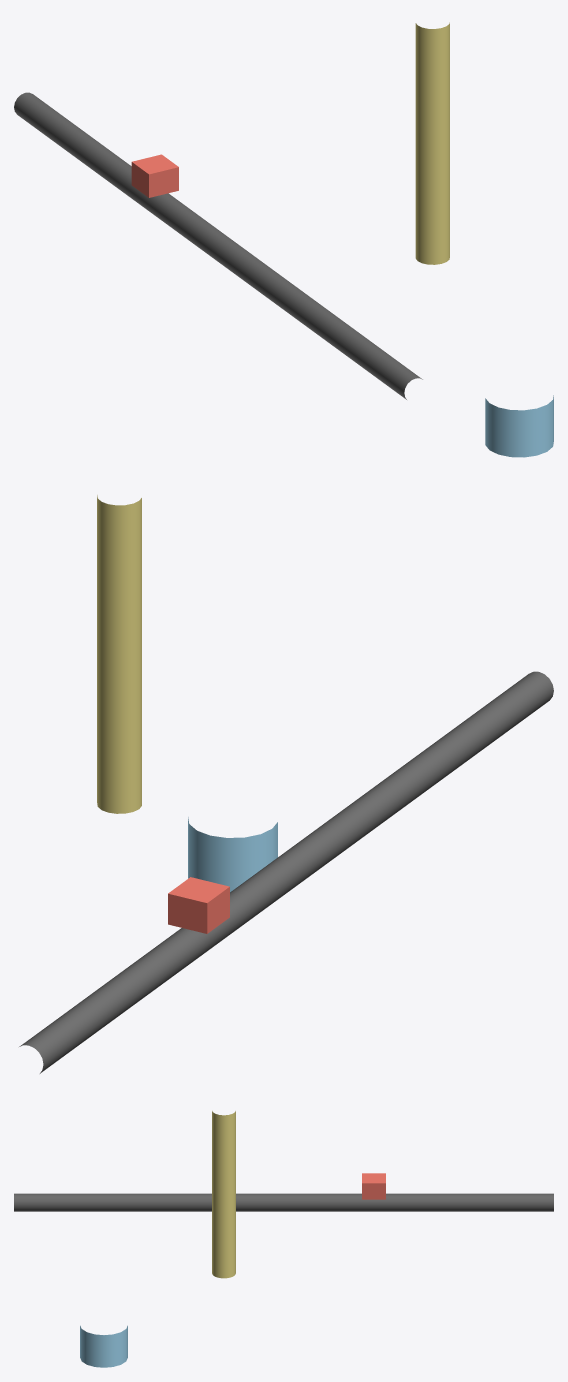
The model's file is micro_irrigation_drip_sprinkler_uniformity.glb.
3 views of the same model, one above another, from view 1: azimuth 30°, elevation 25°; view 2: azimuth 150°, elevation 25°; view 3: azimuth 270°, elevation 25° (orthographic). The views are drawn at different scales.
Visible parts, largest first — view 1: MicroIrrigationPolyethyleneLateralPipe, RotaryImpactSprinklerNozzleRiser, AgriculturalCatchCanUniformityGrid, PressureCompensatingDripEmitterNozzle; view 2: MicroIrrigationPolyethyleneLateralPipe, RotaryImpactSprinklerNozzleRiser, AgriculturalCatchCanUniformityGrid, PressureCompensatingDripEmitterNozzle; view 3: MicroIrrigationPolyethyleneLateralPipe, RotaryImpactSprinklerNozzleRiser, AgriculturalCatchCanUniformityGrid, PressureCompensatingDripEmitterNozzle.
Boxes of the visible parts, <box> form: MicroIrrigationPolyethyleneLateralPipe: <box>14,92,422,399</box>; RotaryImpactSprinklerNozzleRiser: <box>415,22,449,264</box>; AgriculturalCatchCanUniformityGrid: <box>485,395,553,457</box>; PressureCompensatingDripEmitterNozzle: <box>131,154,178,197</box>; MicroIrrigationPolyethyleneLateralPipe: <box>19,671,553,1073</box>; RotaryImpactSprinklerNozzleRiser: <box>97,495,141,813</box>; AgriculturalCatchCanUniformityGrid: <box>188,817,277,892</box>; PressureCompensatingDripEmitterNozzle: <box>168,877,229,933</box>; MicroIrrigationPolyethyleneLateralPipe: <box>14,1193,553,1211</box>; RotaryImpactSprinklerNozzleRiser: <box>212,1111,235,1278</box>; AgriculturalCatchCanUniformityGrid: <box>80,1325,127,1367</box>; PressureCompensatingDripEmitterNozzle: <box>362,1173,385,1199</box>.
Bounding box in the file's own units: 0.57 × 0.91 × 1.8.
